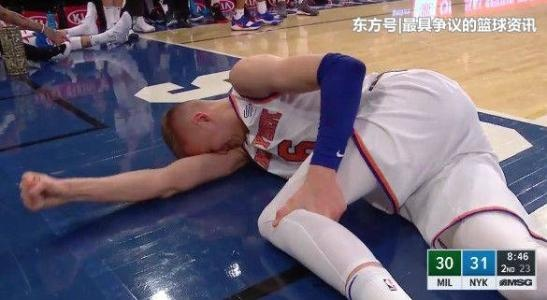falling: (13, 30, 540, 299)
